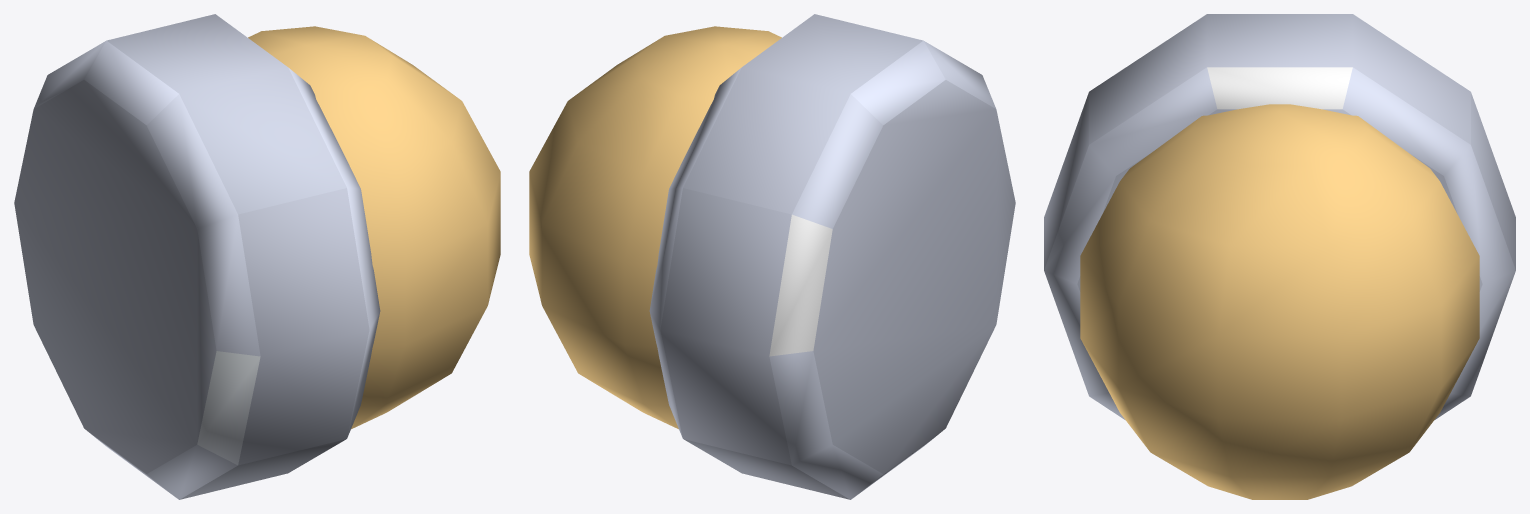
File: SM_Cinema_MarqueeBulb.fbx
The picture shows the model from 3 angles, left to right: view 1: azimuth 30°, elevation 25°; view 2: azimuth 150°, elevation 25°; view 3: azimuth 270°, elevation 25°; orthographic projection.
Parts seen in each view (by area): view 1: SM_Cinema_MarqueeBulb; view 2: SM_Cinema_MarqueeBulb; view 3: SM_Cinema_MarqueeBulb.
Part boxes in pixels (bbox=[...]): SM_Cinema_MarqueeBulb: bbox=[14, 14, 500, 499]; SM_Cinema_MarqueeBulb: bbox=[529, 14, 1015, 499]; SM_Cinema_MarqueeBulb: bbox=[1044, 14, 1515, 499].
Bounding box in the file's own units: 13.07 × 14.3 × 15.04.
